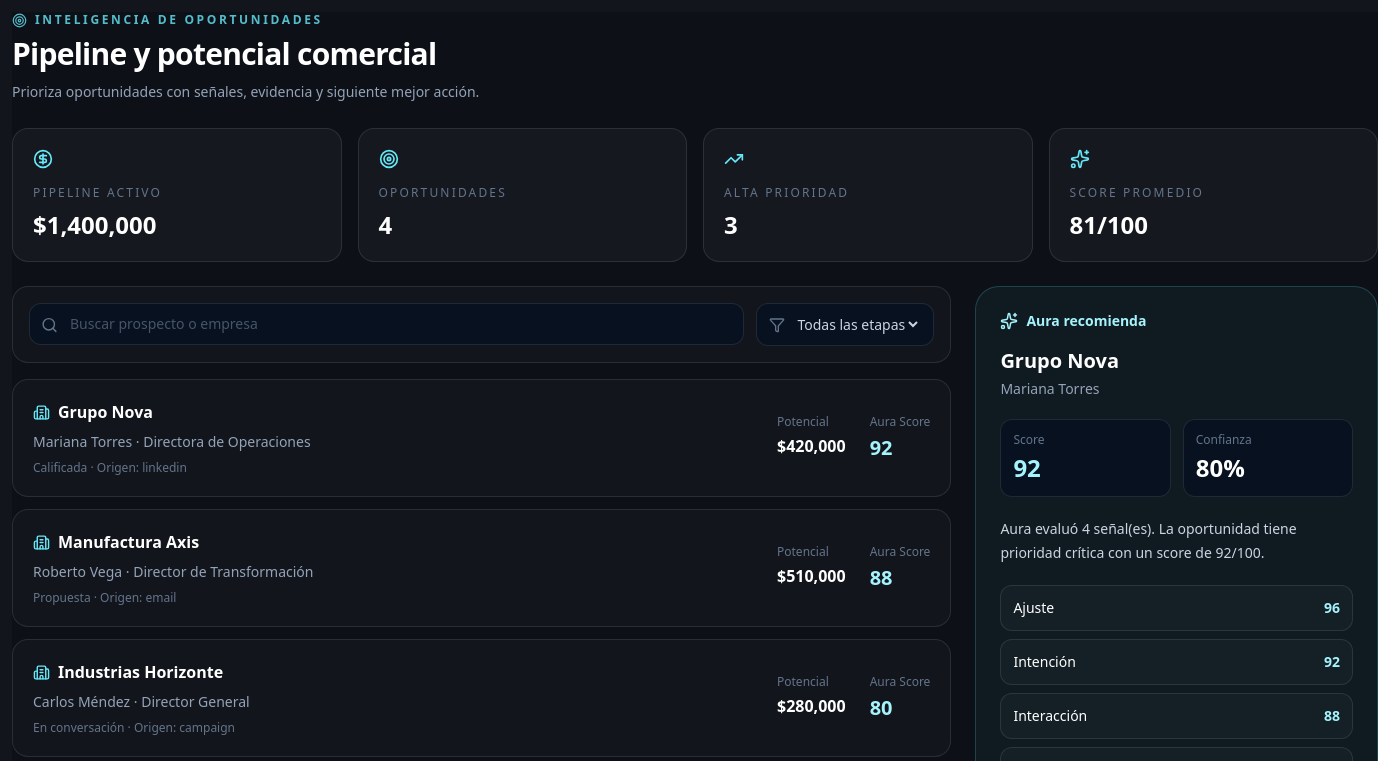
Test: GrowthOpportunitiesWorkspace › changes the intelligence detail when selecting another opportunity
Click the button "Industrias Horizonte": (141, 672) top-left (12, 639), bottom-right (951, 757)
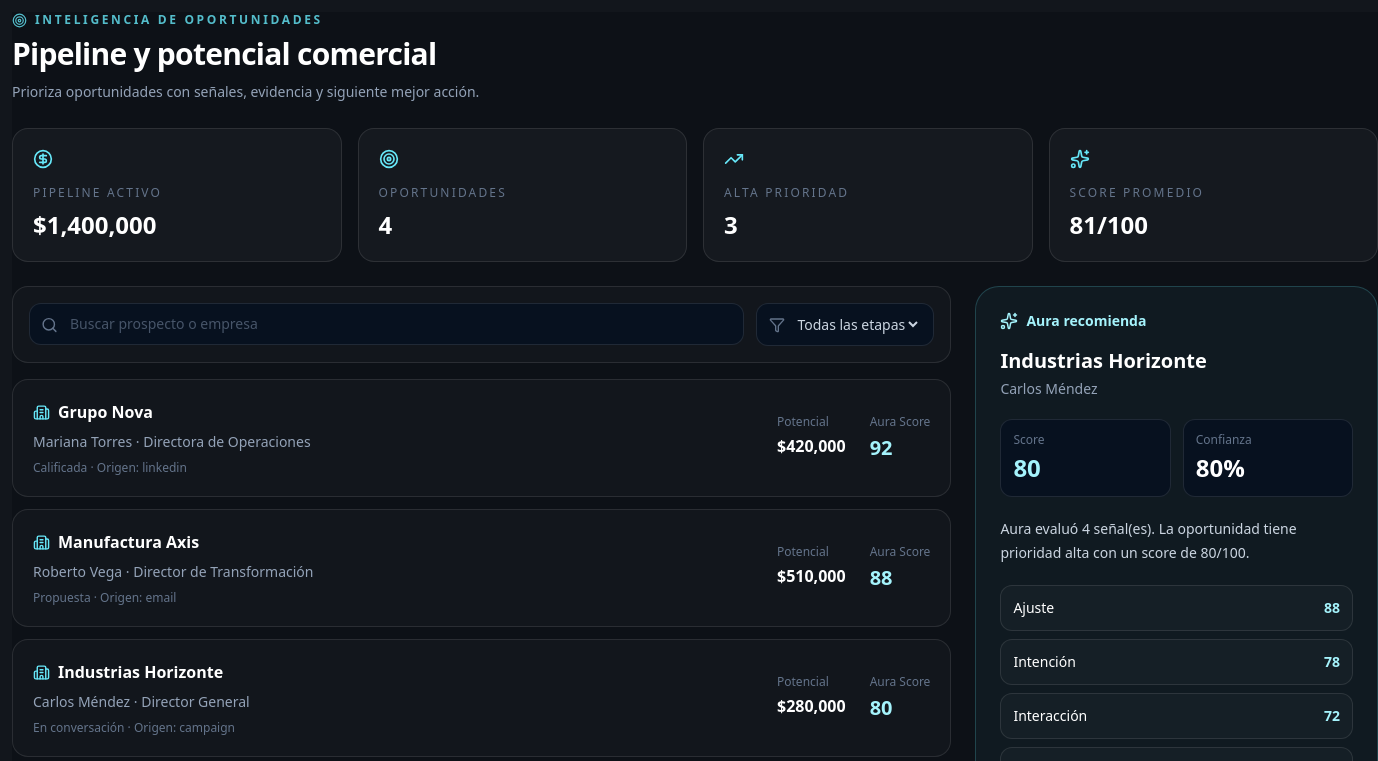
Expected: the 2nd heading "Industrias Horizonte" is shown, top-left (58, 660), bottom-right (223, 684)
Result: the text "Carlos Méndez" is shown at top-left (1000, 379), bottom-right (1098, 398)
